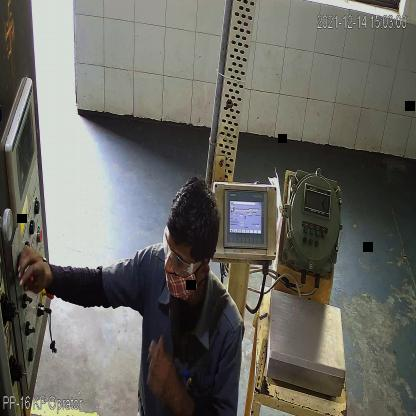goggles: (160, 236, 202, 278)
